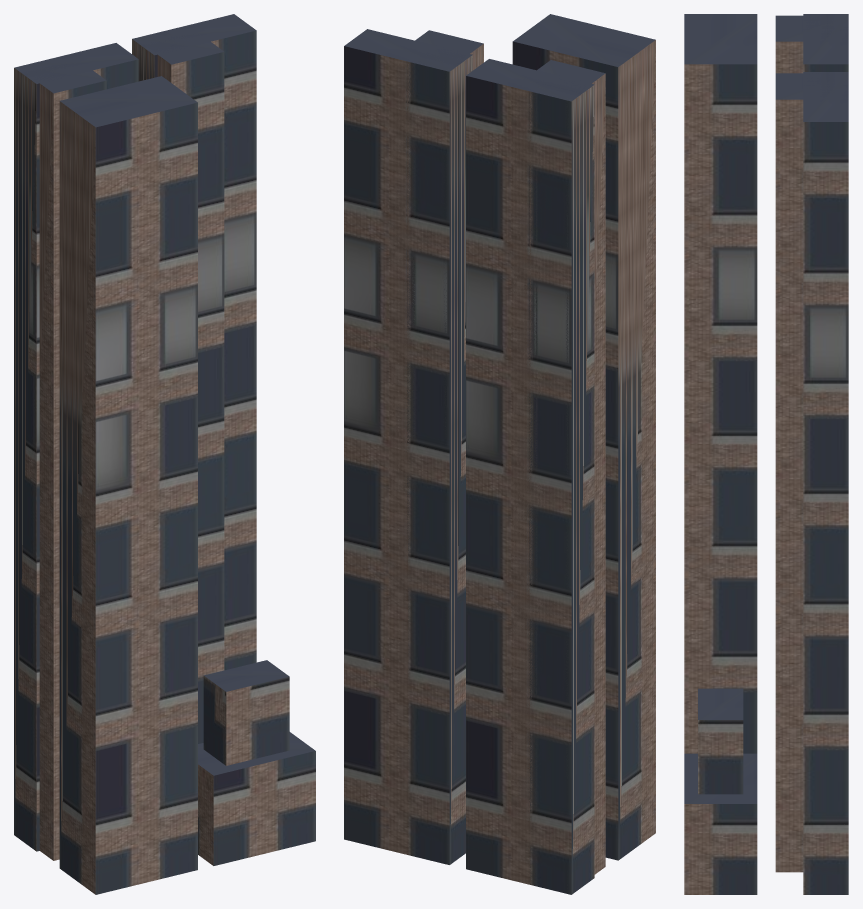
Rendered from block_23.obj.
3 renders of one model, left to right at view 1: azimuth 30°, elevation 25°; view 2: azimuth 150°, elevation 25°; view 3: azimuth 270°, elevation 25°, orthographic. The views are drawn at different scales.
Visible parts, largest first — view 1: b1, b2, b0, b3; view 2: b0, b2, b1; view 3: b2, b1, b3, b0.
Boxes of the visible parts, <box> form: b1: <box>59,76,197,894</box>; b2: <box>132,14,256,743</box>; b0: <box>14,43,138,860</box>; b3: <box>198,660,315,865</box>; b0: <box>466,59,605,894</box>; b2: <box>344,29,483,864</box>; b1: <box>512,14,655,860</box>; b2: <box>775,72,848,894</box>; b1: <box>684,14,757,753</box>; b3: <box>684,688,757,894</box>; b0: <box>775,14,848,73</box>.
Bounding box in the file's own units: 4.2 × 14 × 2.7.
